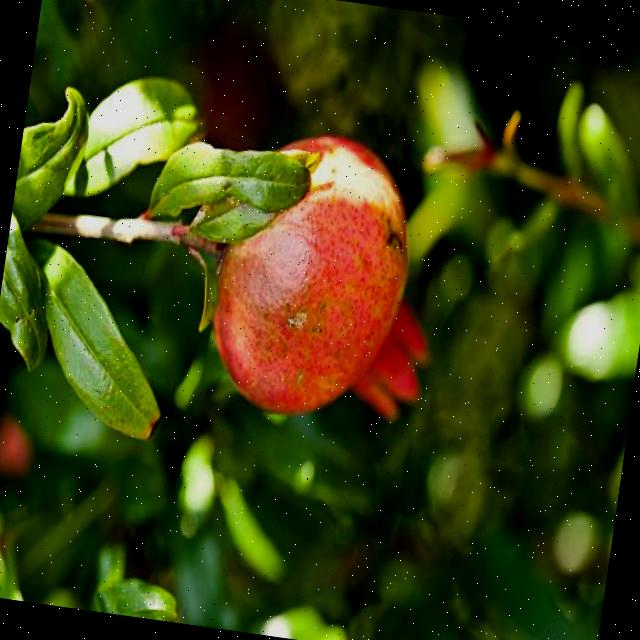overripe: (188, 111, 467, 438)
